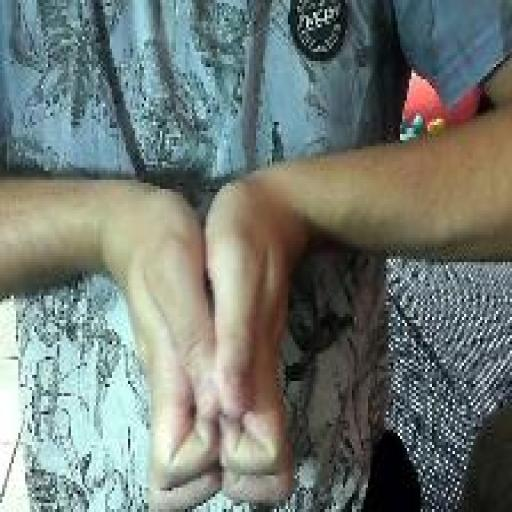I -boar-: (117, 176, 297, 510)
